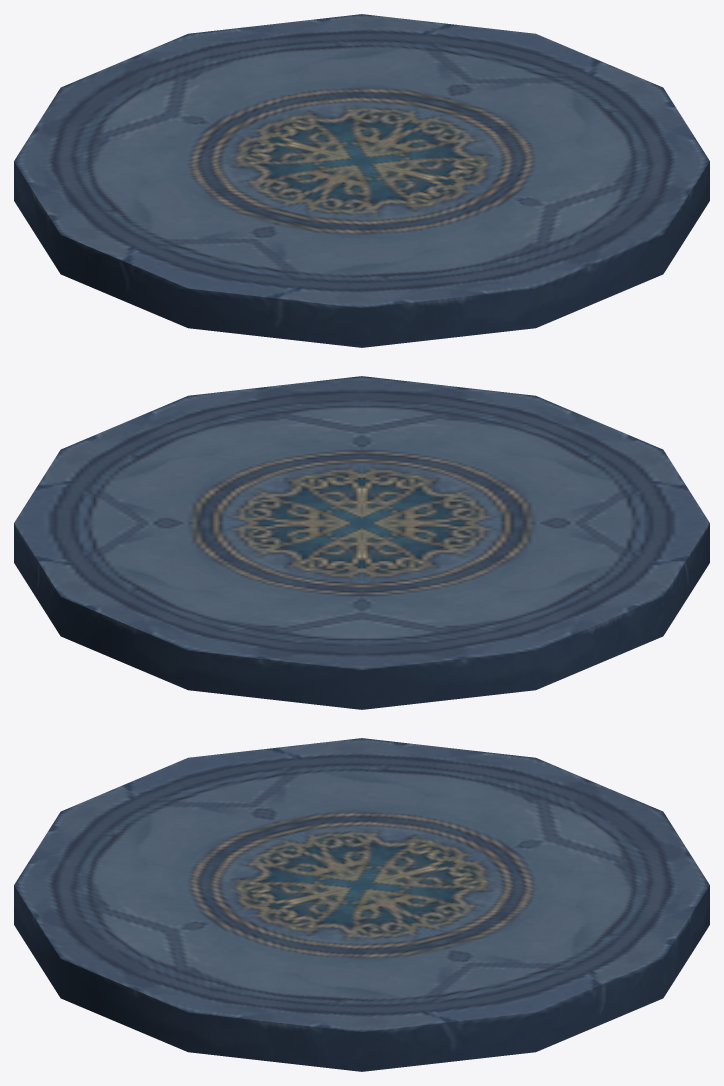
The model's file is guchengqishituan_dibiao_05.FBX.
3 views of the same model, one above another, from view 1: azimuth 30°, elevation 25°; view 2: azimuth 150°, elevation 25°; view 3: azimuth 270°, elevation 25° (orthographic).
Visible parts, largest first — view 1: guchengqishituan_dibiao_05; view 2: guchengqishituan_dibiao_05; view 3: guchengqishituan_dibiao_05.
Boxes of the visible parts, x1,y1,x2,y2 form: guchengqishituan_dibiao_05: (14,14,709,347); guchengqishituan_dibiao_05: (14,376,709,709); guchengqishituan_dibiao_05: (14,738,709,1071).
Size of the model in its own units: 737 by 46.4 by 737.
